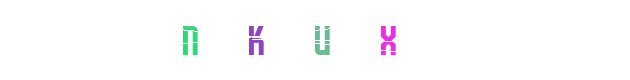K: (216, 0, 296, 80)
N: (215, 0, 295, 80)
U: (275, 0, 355, 80)
X: (348, 0, 428, 80)
